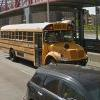Bus: (2, 18, 81, 68)
